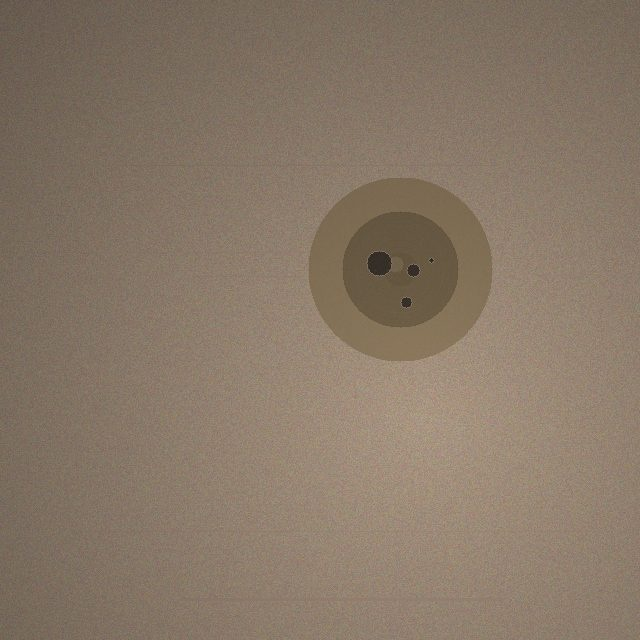shrinkage: (308, 177, 492, 361)
